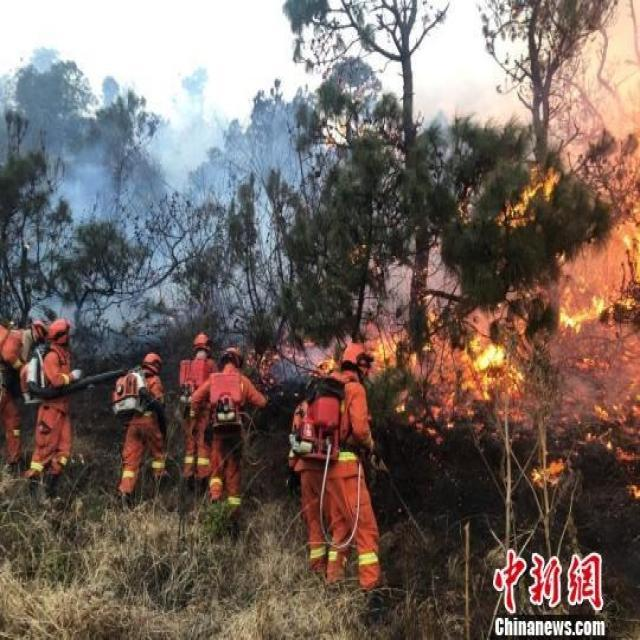Fire: (245, 164, 640, 498)
Smoke: (1, 2, 639, 380)
